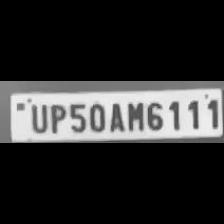0: (86, 100, 106, 132)
1: (182, 97, 202, 129), (202, 97, 220, 129), (166, 98, 182, 130)
5: (66, 100, 86, 132)
6: (143, 99, 165, 131)
A: (108, 100, 125, 132)
M: (124, 99, 144, 131)
P: (46, 101, 66, 133)
U: (27, 101, 49, 133)
